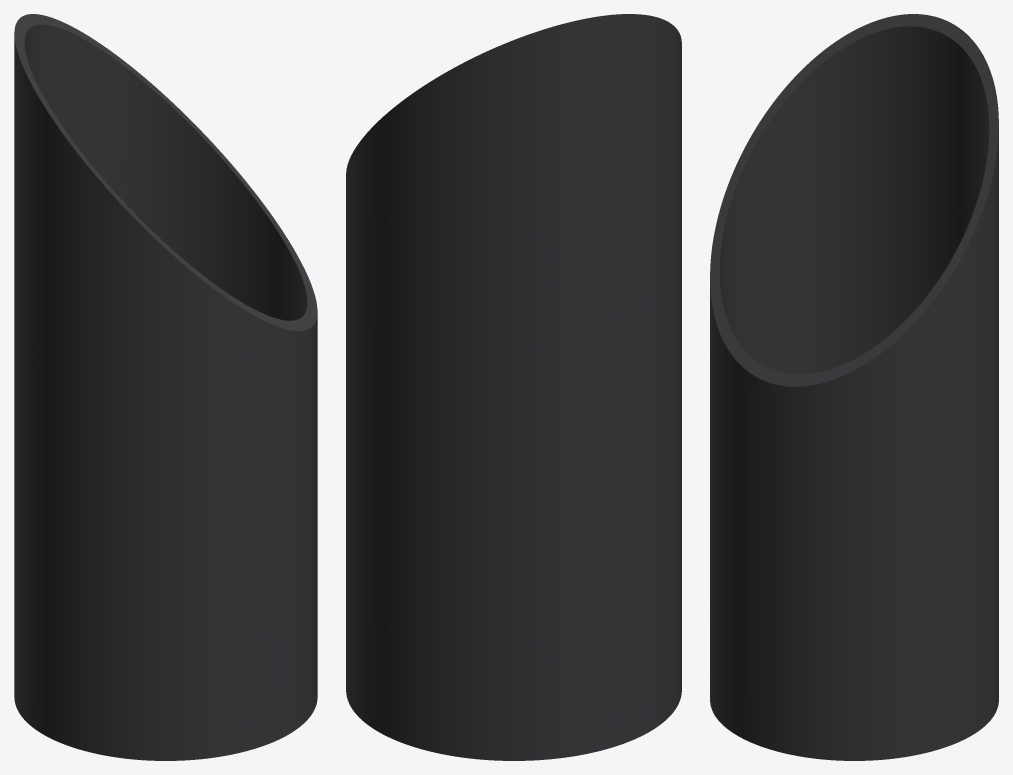
The model's file is 05_pesec_cerna.glb.
The picture shows the model from 3 angles, left to right: view 1: azimuth 30°, elevation 25°; view 2: azimuth 150°, elevation 25°; view 3: azimuth 270°, elevation 25°; orthographic projection. The views are drawn at different scales.
Visible parts, largest first — view 1: 05_pesec_cerna; view 2: 05_pesec_cerna; view 3: 05_pesec_cerna.
Part boxes in pixels (x1=…): 05_pesec_cerna: x1=14, y1=14, x2=317, y2=760; 05_pesec_cerna: x1=346, y1=14, x2=681, y2=760; 05_pesec_cerna: x1=710, y1=14, x2=998, y2=760.
Bounding box in the file's own units: 0.03 × 0.0725 × 0.03.
1 material, 1 textured.
